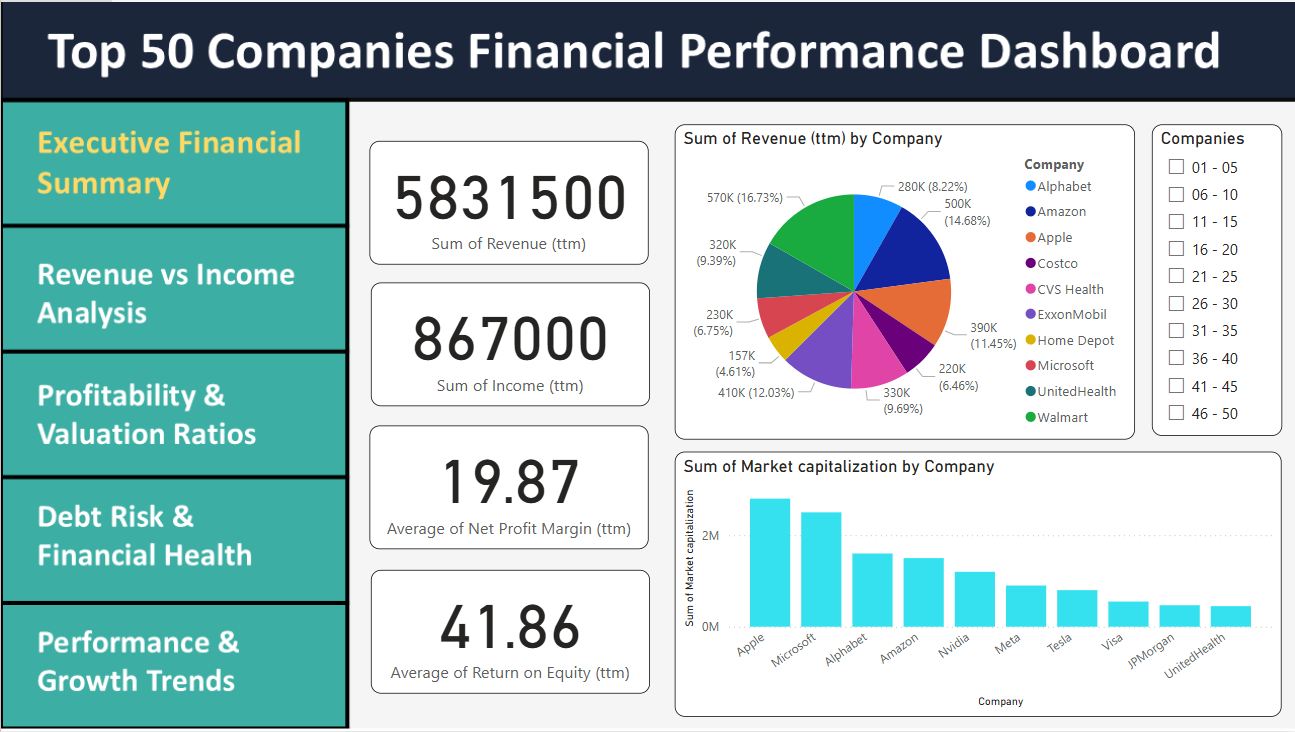

The page's visual inventory and layout, read from the dashboard file:
{"tool":"powerbi","page":{"name":"Executive Fiinancial Summary","canvas":[1280,720],"ordinal":0},"visuals":[{"type":"actionButton","box":[20.6,108.6,291.6,97.6],"z":0},{"type":"actionButton","box":[20.6,232.4,291.6,97.6],"z":1000},{"type":"actionButton","box":[20.6,360.3,291.6,97.6],"z":2000},{"type":"actionButton","box":[20.6,482.7,291.6,97.6],"z":3000},{"type":"actionButton","box":[20.6,607.9,291.6,97.6],"z":4000},{"type":"card","fields":{"Values":["Sum(50_Company_Financial_Data.Revenue (ttm))"]},"box":[364.3,137,275.6,122.5],"z":5000},{"type":"card","fields":{"Values":["Sum(50_Company_Financial_Data.Income (ttm))"]},"box":[365.9,277.2,275.6,122.5],"z":6000},{"type":"card","fields":{"Values":["Avg(50_Company_Financial_Data.Net Profit Margin (ttm))"]},"box":[364.3,418.4,275.6,122.5],"z":7000},{"type":"card","fields":{"Values":["Avg(50_Company_Financial_Data.Return on Equity (ttm))"]},"box":[365.9,560.9,275.6,122.5],"z":8000},{"type":"pieChart","fields":{"Y":["Sum(50_Company_Financial_Data.Revenue (ttm))"],"Series":["50_Company_Financial_Data.Company"]},"box":[665.6,120.9,454.5,311.1],"z":10000},{"type":"slicer","title":"Companies","fields":{"Values":["50_Company_Financial_Data.CompanyGroup"]},"box":[1136.3,120.9,128.9,307.8],"z":11000},{"type":"columnChart","fields":{"Category":["50_Company_Financial_Data.Company"],"Y":["Sum(50_Company_Financial_Data.Market capitalization)"]},"box":[665.5,443.7,599.3,261.6],"z":11001}]}

Visuals, with their boxes in screenshot pixels (x1, y1, x2, y2), scaled from the page's 1280x720 canvas onto the 1295x732 screenshot:
actionButton: <region>21, 110, 316, 210</region>
actionButton: <region>21, 236, 316, 336</region>
actionButton: <region>21, 366, 316, 466</region>
actionButton: <region>21, 491, 316, 590</region>
actionButton: <region>21, 618, 316, 717</region>
card - Sum(50_Company_Financial_Data.Revenue (ttm)): <region>369, 139, 647, 264</region>
card - Sum(50_Company_Financial_Data.Income (ttm)): <region>370, 282, 649, 406</region>
card - Avg(50_Company_Financial_Data.Net Profit Margin (ttm)): <region>369, 425, 647, 550</region>
card - Avg(50_Company_Financial_Data.Return on Equity (ttm)): <region>370, 570, 649, 695</region>
pieChart - Sum(50_Company_Financial_Data.Revenue (ttm)) x 50_Company_Financial_Data.Company: <region>673, 123, 1133, 439</region>
"Companies" slicer: <region>1150, 123, 1280, 436</region>
columnChart - 50_Company_Financial_Data.Company x Sum(50_Company_Financial_Data.Market capitalization): <region>673, 451, 1280, 717</region>
